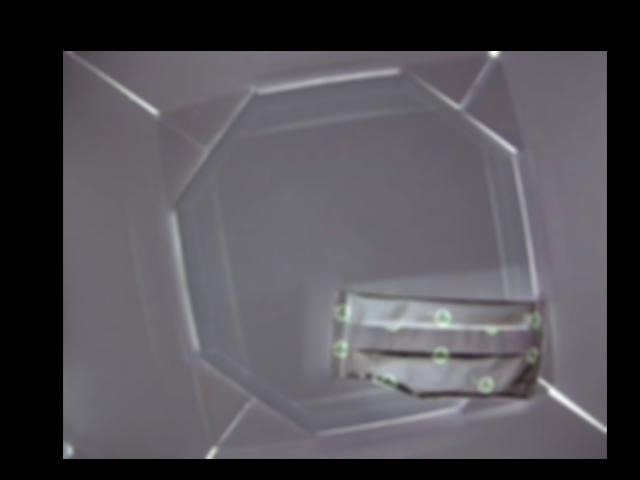Medicine: (326, 288, 545, 401)
